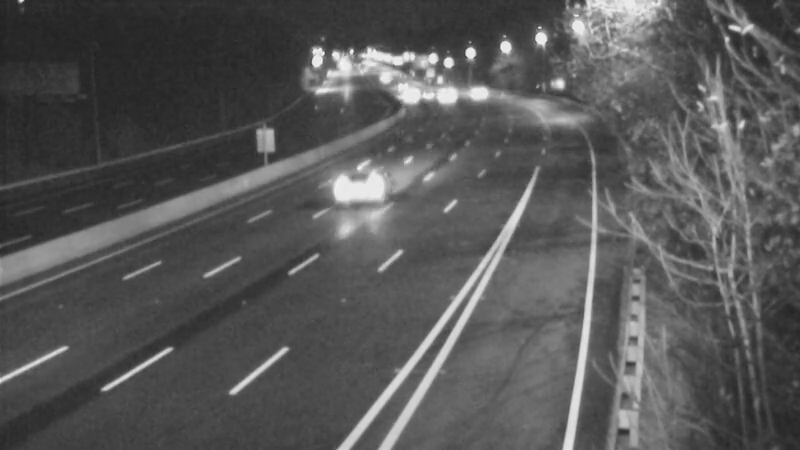vehicle: (325, 157, 405, 237), (375, 58, 425, 108), (448, 62, 498, 112), (417, 72, 467, 122), (399, 70, 449, 120), (386, 77, 436, 127)
